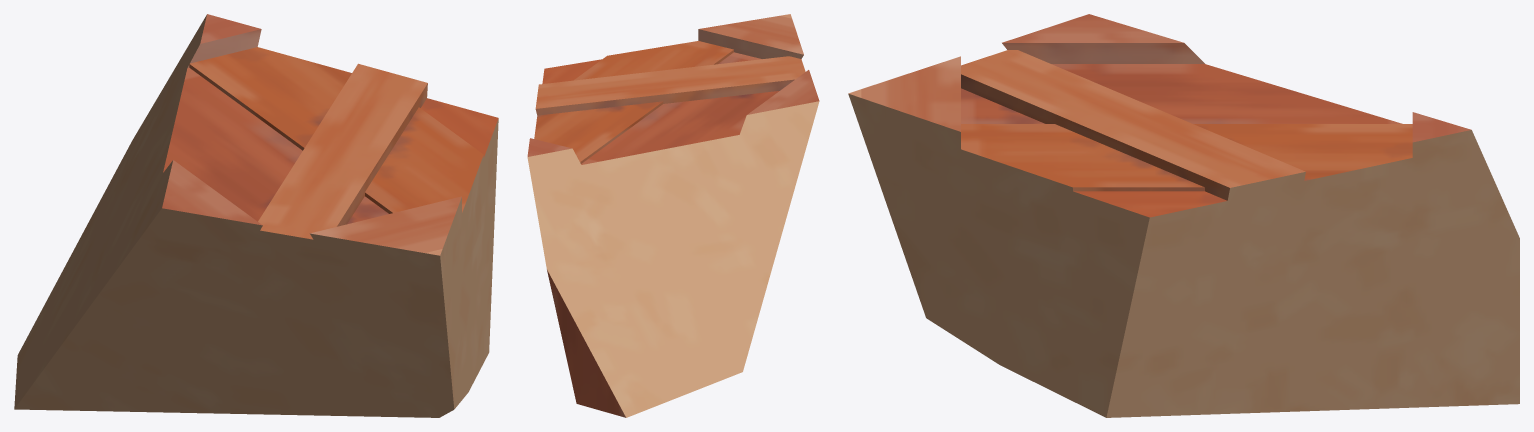
Rendered from crate_s04.fbx.
3 views of the same model, side by side, from view 1: azimuth 30°, elevation 25°; view 2: azimuth 150°, elevation 25°; view 3: azimuth 270°, elevation 25° (orthographic). The views are drawn at different scales.
Visible parts, largest first — view 1: crate_s04; view 2: crate_s04; view 3: crate_s04.
Part boxes in pixels (left/top/right/bottom): crate_s04: left=14, top=14, right=498, bottom=417; crate_s04: left=527, top=14, right=819, bottom=417; crate_s04: left=848, top=14, right=1519, bottom=417.
Bounding box in the file's own units: 1.91 × 1.5 × 2.83.
